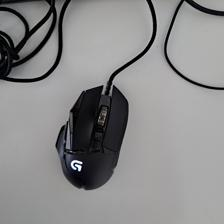mouse: (54, 83, 129, 189)
